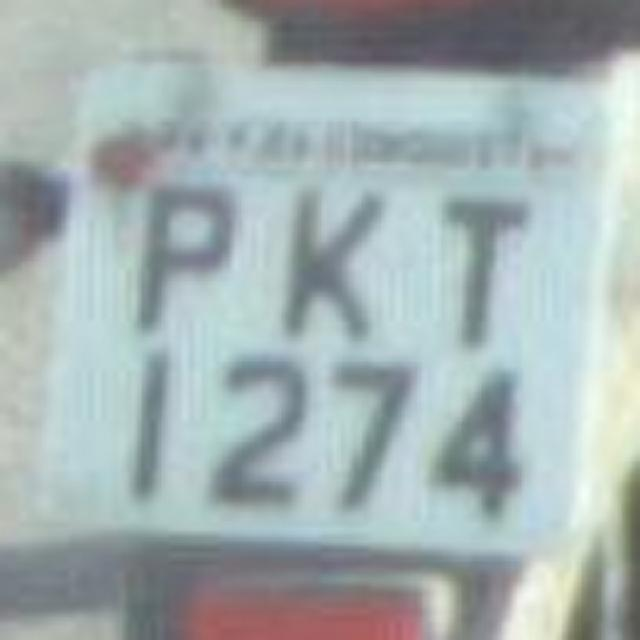1: (109, 352, 196, 516)
2: (204, 351, 328, 524)
4: (432, 324, 548, 528)
7: (320, 344, 425, 516)
K: (260, 172, 385, 352)
P: (116, 180, 236, 365)
T: (408, 171, 528, 344)
